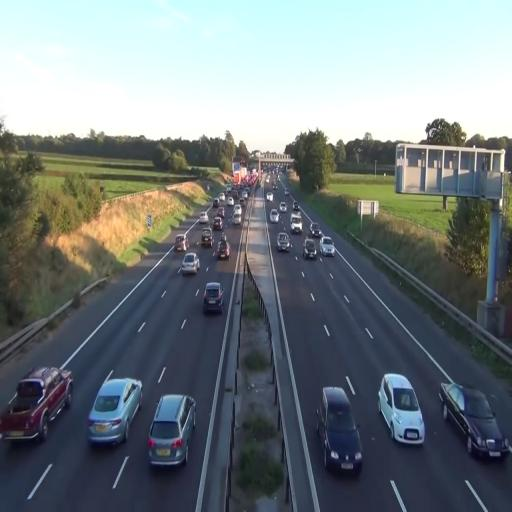vehicle: (439, 378, 509, 461), (0, 367, 72, 444), (316, 386, 364, 477), (86, 375, 142, 448), (148, 392, 198, 468), (378, 372, 425, 446), (202, 282, 224, 315), (180, 252, 200, 276), (216, 234, 230, 260), (303, 238, 318, 260), (276, 231, 291, 252), (174, 232, 188, 254), (321, 238, 335, 256), (200, 225, 212, 246), (268, 207, 280, 224)
